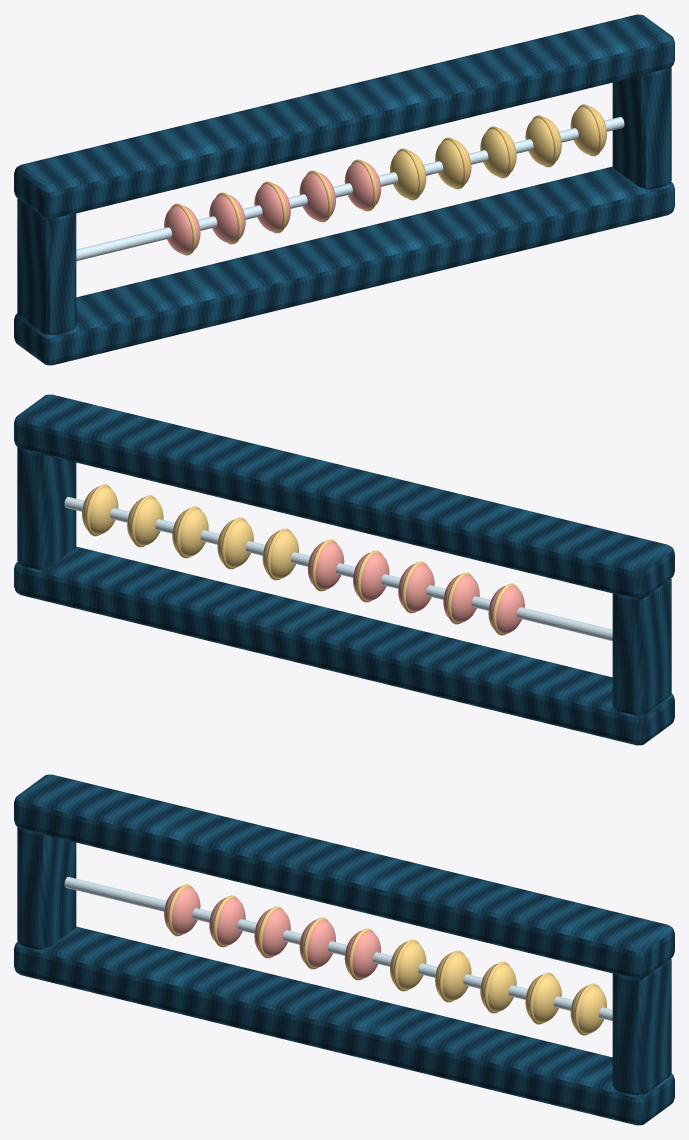
The model's file is kecrekan_poc.glb.
The picture shows the model from 3 angles, top to bottom: view 1: azimuth 30°, elevation 25°; view 2: azimuth 150°, elevation 25°; view 3: azimuth 330°, elevation 25°; orthographic projection.
Parts seen in each view (by area): view 1: POC_TopRail, POC_BottomRail, POC_LeftPost, POC_RightPost, POC_Rod_0, POC_Bead_R0_01, POC_Bead_R0_07, POC_Bead_R0_02, POC_Bead_R0_06, POC_Bead_R0_03, POC_Bead_R0_00, POC_Bead_R0_08 (+3 smaller); view 2: POC_TopRail, POC_BottomRail, POC_LeftPost, POC_RightPost, POC_Rod_0, POC_Bead_R0_01, POC_Bead_R0_07, POC_Bead_R0_02, POC_Bead_R0_06, POC_Bead_R0_03, POC_Bead_R0_00, POC_Bead_R0_08 (+3 smaller); view 3: POC_TopRail, POC_BottomRail, POC_RightPost, POC_LeftPost, POC_Rod_0, POC_Bead_R0_01, POC_Bead_R0_06, POC_Bead_R0_07, POC_Bead_R0_00, POC_Bead_R0_05, POC_Bead_R0_08, POC_Bead_R0_02 (+3 smaller).
Part boxes in pixels (x1=…): POC_TopRail: x1=14, y1=14, x2=674, y2=219; POC_BottomRail: x1=14, y1=166, x2=674, y2=365; POC_LeftPost: x1=17, y1=198, x2=76, y2=334; POC_RightPost: x1=612, y1=67, x2=671, y2=189; POC_Rod_0: x1=76, y1=117, x2=624, y2=260; POC_Bead_R0_01: x1=209, y1=192, x2=245, y2=244; POC_Bead_R0_07: x1=480, y1=126, x2=516, y2=178; POC_Bead_R0_02: x1=254, y1=181, x2=290, y2=233; POC_Bead_R0_06: x1=435, y1=137, x2=471, y2=189; POC_Bead_R0_03: x1=299, y1=170, x2=335, y2=222; POC_Bead_R0_00: x1=164, y1=203, x2=200, y2=255; POC_Bead_R0_08: x1=525, y1=115, x2=561, y2=167; POC_TopRail: x1=14, y1=394, x2=674, y2=599; POC_BottomRail: x1=14, y1=546, x2=674, y2=745; POC_LeftPost: x1=612, y1=578, x2=671, y2=714; POC_RightPost: x1=17, y1=447, x2=76, y2=569; POC_Rod_0: x1=64, y1=497, x2=612, y2=640; POC_Bead_R0_01: x1=443, y1=572, x2=479, y2=624; POC_Bead_R0_07: x1=172, y1=506, x2=208, y2=558; POC_Bead_R0_02: x1=398, y1=561, x2=434, y2=613; POC_Bead_R0_06: x1=217, y1=517, x2=253, y2=569; POC_Bead_R0_03: x1=353, y1=550, x2=389, y2=602; POC_Bead_R0_00: x1=488, y1=583, x2=524, y2=635; POC_Bead_R0_08: x1=127, y1=495, x2=163, y2=547; POC_TopRail: x1=14, y1=774, x2=674, y2=979; POC_BottomRail: x1=14, y1=926, x2=674, y2=1125; POC_RightPost: x1=612, y1=958, x2=671, y2=1094; POC_LeftPost: x1=17, y1=827, x2=76, y2=949; POC_Rod_0: x1=64, y1=877, x2=612, y2=1020; POC_Bead_R0_01: x1=209, y1=895, x2=245, y2=947; POC_Bead_R0_06: x1=435, y1=950, x2=471, y2=1002; POC_Bead_R0_07: x1=480, y1=961, x2=516, y2=1013; POC_Bead_R0_00: x1=164, y1=884, x2=200, y2=936; POC_Bead_R0_05: x1=390, y1=939, x2=426, y2=991; POC_Bead_R0_08: x1=525, y1=972, x2=561, y2=1024; POC_Bead_R0_02: x1=254, y1=906, x2=290, y2=958.
Size of the model in its own units: 3.08 by 0.84 by 0.3.
Materials: 5 (1 with a texture image).
